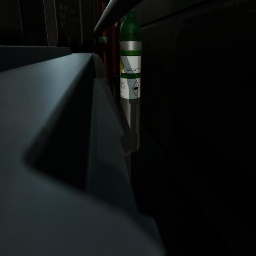0: (120, 8, 142, 154), (126, 14, 126, 16)
NitrogenTank ,: (95, 0, 112, 96), (110, 0, 120, 104)
